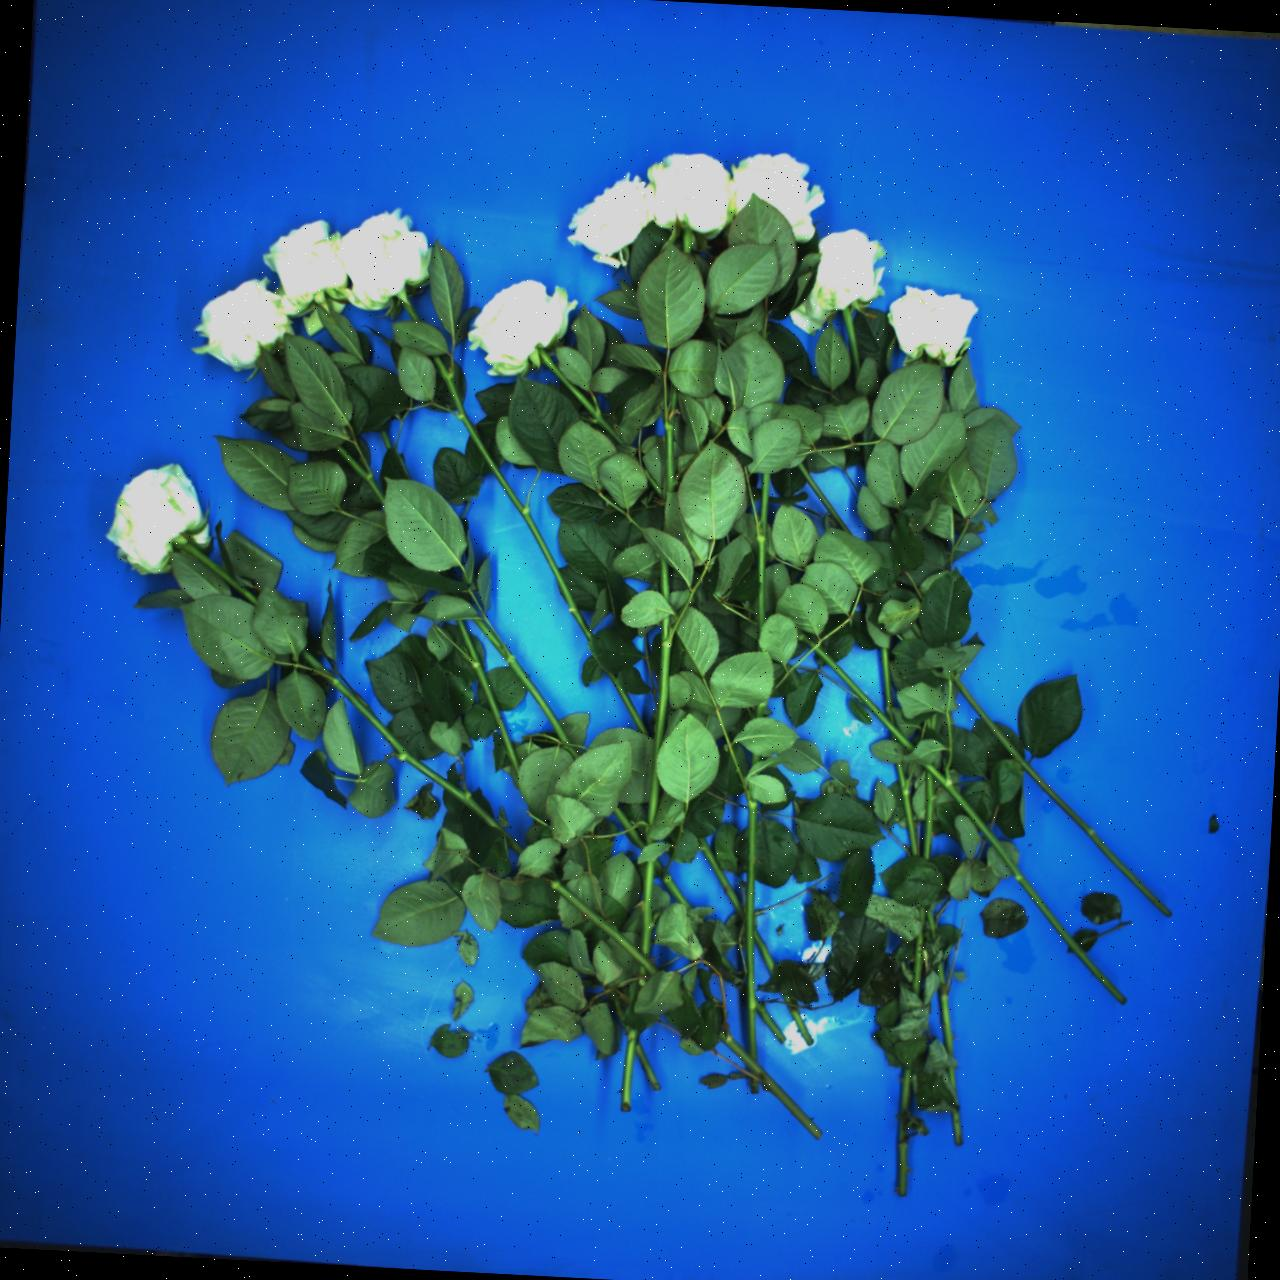Stem: (947, 678, 1173, 921), (920, 756, 1128, 1008), (425, 353, 600, 641), (294, 649, 525, 860), (472, 612, 583, 761), (795, 626, 914, 756), (715, 1029, 825, 1142), (549, 878, 660, 976), (456, 617, 524, 777), (537, 349, 626, 450), (642, 615, 674, 825), (179, 538, 260, 607), (796, 463, 851, 537), (696, 836, 745, 918), (331, 444, 392, 506), (744, 798, 756, 1060), (606, 668, 648, 738), (755, 474, 769, 635), (651, 858, 692, 912), (896, 762, 919, 856), (783, 992, 815, 1046), (619, 1027, 639, 1111), (750, 998, 785, 1043), (638, 862, 654, 955), (842, 308, 863, 381), (632, 1041, 661, 1091), (612, 806, 646, 850), (665, 386, 676, 491), (749, 930, 777, 973), (922, 772, 934, 859), (939, 994, 953, 1057), (881, 646, 893, 721), (910, 934, 922, 995), (641, 469, 665, 496), (658, 559, 670, 604), (897, 1142, 906, 1196), (899, 1069, 911, 1109), (400, 300, 418, 324), (611, 995, 627, 1021), (951, 1111, 962, 1146), (925, 911, 937, 940), (379, 428, 393, 449), (717, 955, 734, 973), (682, 227, 692, 253), (896, 1121, 907, 1141), (748, 754, 760, 768), (948, 1067, 955, 1090), (937, 964, 945, 983), (918, 907, 926, 924), (930, 713, 938, 729), (754, 704, 763, 719), (750, 1071, 756, 1092), (325, 298, 332, 309)
flower: (88, 451, 225, 587), (452, 258, 584, 390), (785, 218, 901, 353), (178, 263, 302, 387), (714, 132, 843, 251), (321, 198, 445, 319), (559, 158, 667, 272), (879, 279, 980, 370), (258, 215, 355, 308), (647, 152, 733, 237)
